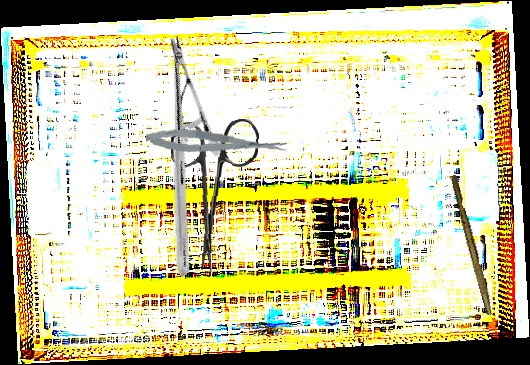Iris Scissors: (164, 115, 260, 276)
Micro Scissor: (145, 124, 288, 162)
Needle Holder: (73, 35, 286, 277)
Scalpel Handle: (447, 174, 497, 316)
